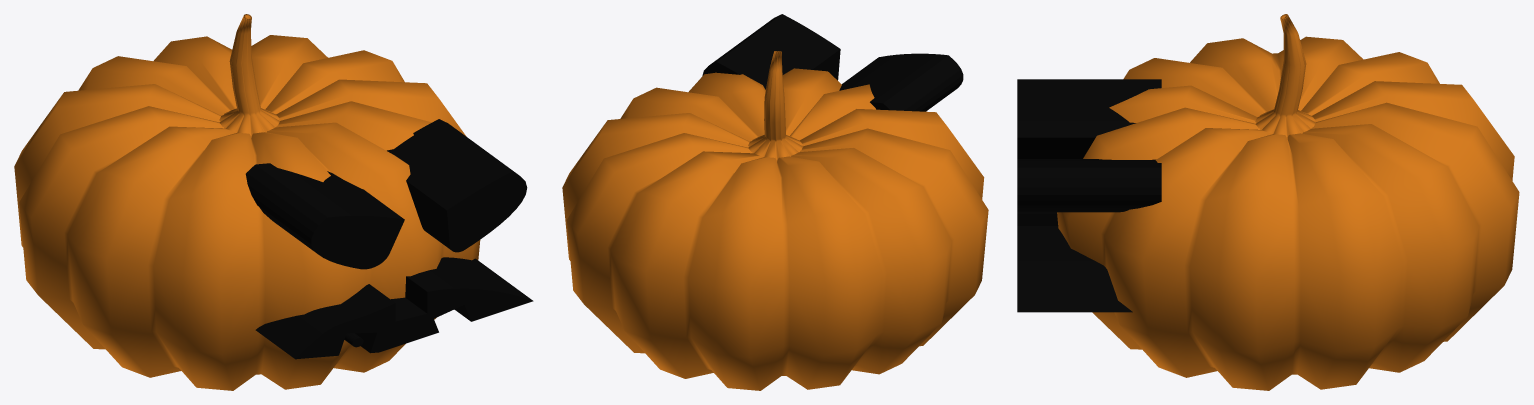
The model's file is citrouille.dae.
3 renders of one model, left to right at view 1: azimuth 30°, elevation 25°; view 2: azimuth 150°, elevation 25°; view 3: azimuth 270°, elevation 25°, orthographic. The views are drawn at different scales.
Parts seen in each view (by area): view 1: pumpkin, pumpkin-face-1; view 2: pumpkin, pumpkin-face-1; view 3: pumpkin, pumpkin-face-1.
Part boxes in pixels (<box>): pumpkin: <box>14,14,480,390</box>; pumpkin-face-1: <box>245,119,533,359</box>; pumpkin: <box>562,51,988,390</box>; pumpkin-face-1: <box>702,14,963,111</box>; pumpkin: <box>1057,14,1519,390</box>; pumpkin-face-1: <box>1017,79,1161,312</box>.
Size of the model in its own units: 4.43 by 4.75 by 3.32.
